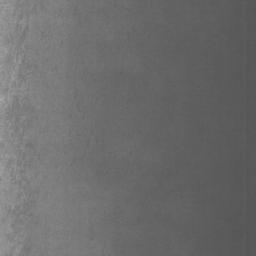Silk spot: (5, 160, 39, 228), (6, 95, 34, 137), (19, 117, 38, 144), (18, 54, 33, 83), (17, 150, 32, 173), (15, 23, 28, 41), (19, 246, 31, 256)
